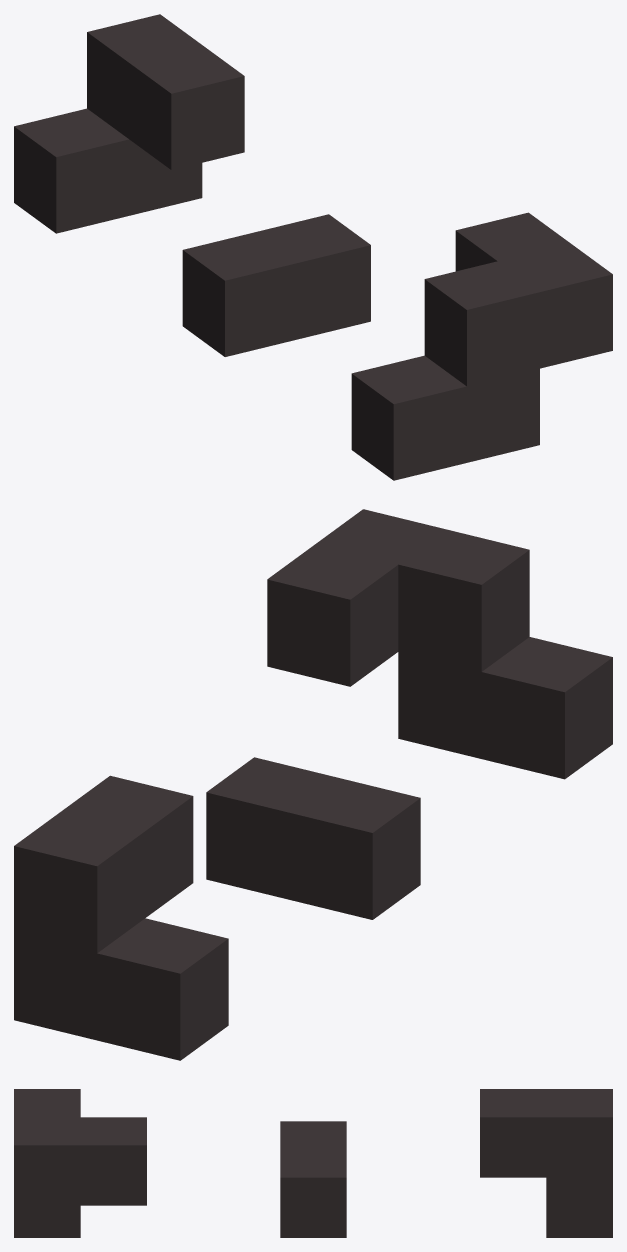
The model's file is ladybug__leg_r.glb.
The picture shows the model from 3 angles, top to bottom: view 1: azimuth 30°, elevation 25°; view 2: azimuth 150°, elevation 25°; view 3: azimuth 270°, elevation 25°; orthographic projection. The views are drawn at different scales.
Parts seen in each view (by area): view 1: ladybug__leg_r; view 2: ladybug__leg_r; view 3: ladybug__leg_r.
Boxes of the visible parts, left/top/right/bottom form: ladybug__leg_r: left=14, top=14, right=612, bottom=480; ladybug__leg_r: left=14, top=509, right=612, bottom=1060; ladybug__leg_r: left=14, top=1089, right=612, bottom=1237.
Size of the model in its own units: 0.3 by 0.2 by 0.9.
1 material, 1 textured.
